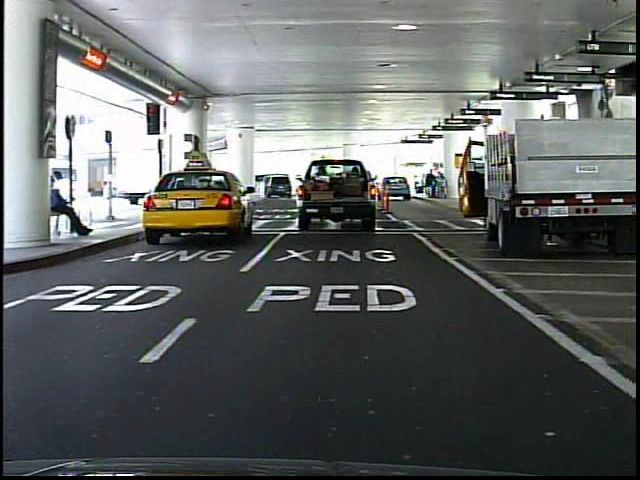person: (54, 167, 99, 243), (152, 166, 173, 219)
